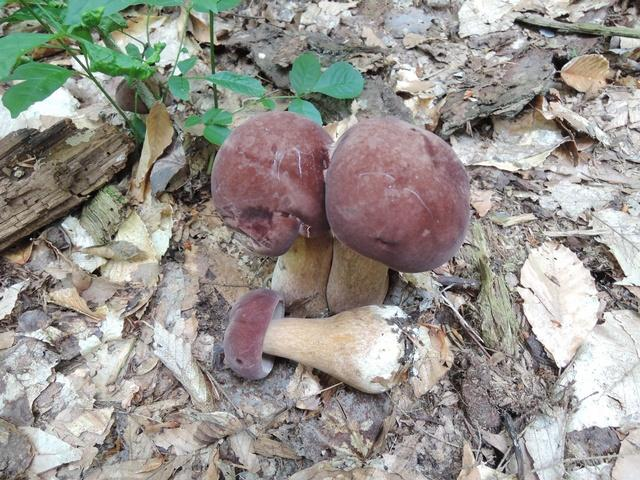poisonous_mushroom: (205, 88, 470, 307), (221, 287, 412, 395)
